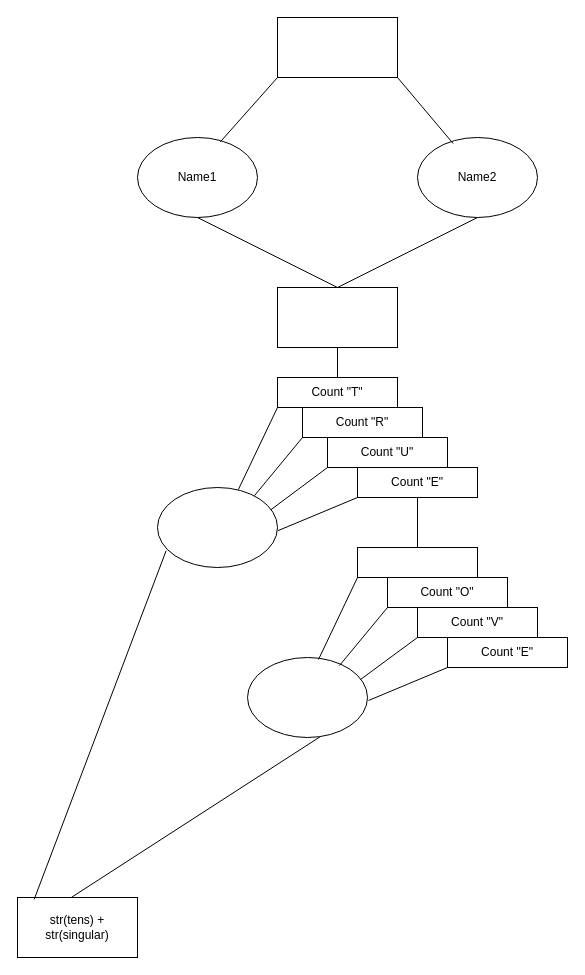
Image size: 585x975. Some labels were removed from this diagram. Here are the shapes that lost their labels. From the top down, the centre of each, then its label:
pixel 337 47: The love of whom
pixel 337 317: combine into single string, make all uppercase.
pixel 217 527: Tens
pixel 417 562: Count "L"
pixel 307 697: Singular
